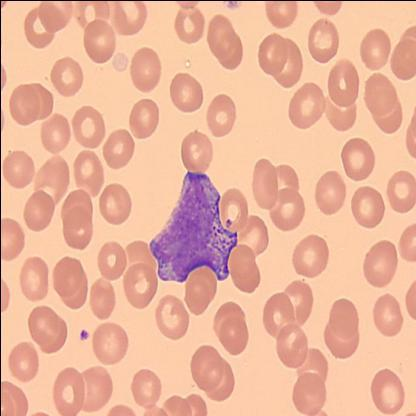Promyelocyte: (150, 168, 238, 278)
